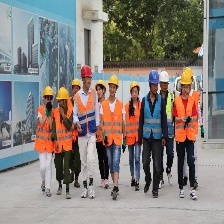helmet: (148, 69, 161, 90), (80, 64, 94, 83), (180, 71, 193, 89), (107, 74, 120, 92), (43, 85, 55, 103), (159, 71, 170, 87), (71, 78, 82, 92)
person: (71, 64, 99, 200), (101, 74, 126, 201), (175, 72, 198, 200), (53, 85, 74, 200), (123, 79, 144, 191), (143, 69, 161, 193)
vest: (174, 96, 197, 141), (74, 93, 97, 134), (102, 100, 122, 144), (54, 106, 73, 150), (143, 96, 162, 138), (38, 106, 53, 150), (124, 102, 139, 145)
